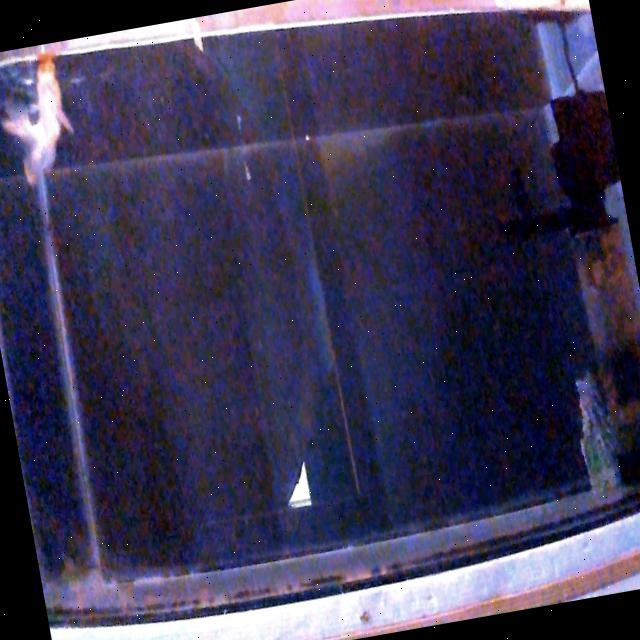fish: (0, 52, 83, 190)
